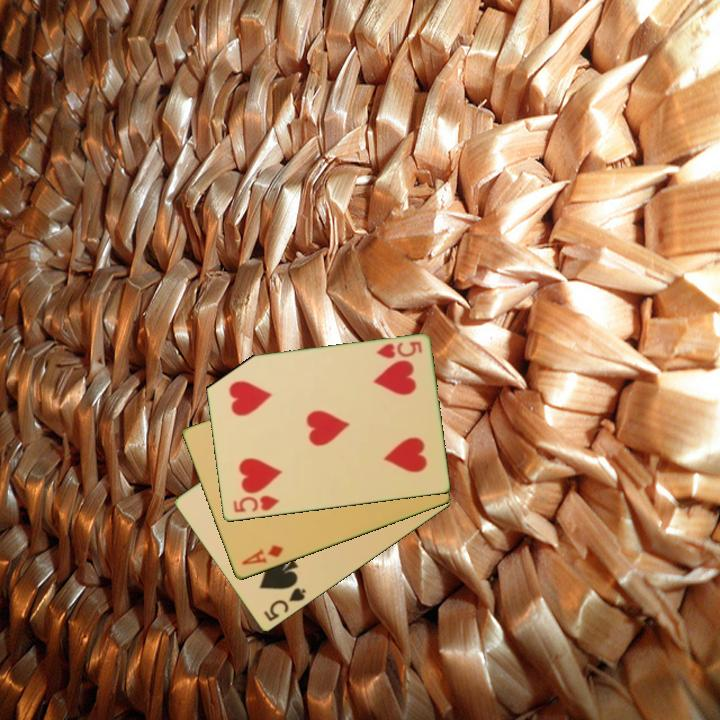5h: (229, 492, 282, 516), (373, 338, 425, 362)
5s: (260, 584, 309, 625)
Ad: (238, 542, 286, 568)
